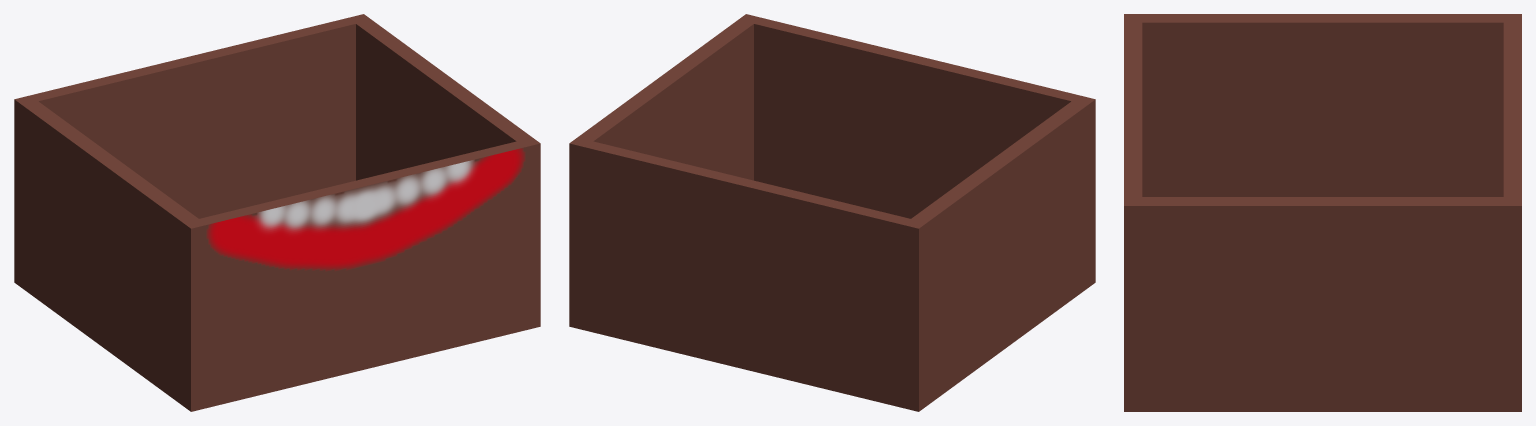
File: mimic_body.obj
3 renders of one model, left to right at view 1: azimuth 30°, elevation 25°; view 2: azimuth 150°, elevation 25°; view 3: azimuth 270°, elevation 25°, orthographic. The views are drawn at different scales.
Parts seen in each view (by area): view 1: body; view 2: body; view 3: body.
Boxes of the visible parts, x1,y1,x2,y2 form: body: [14, 14, 540, 411]; body: [569, 14, 1095, 411]; body: [1124, 14, 1521, 411].
Bounding box in the file's own units: 2 × 1 × 1.75.
Materials: 1 (1 with a texture image).
